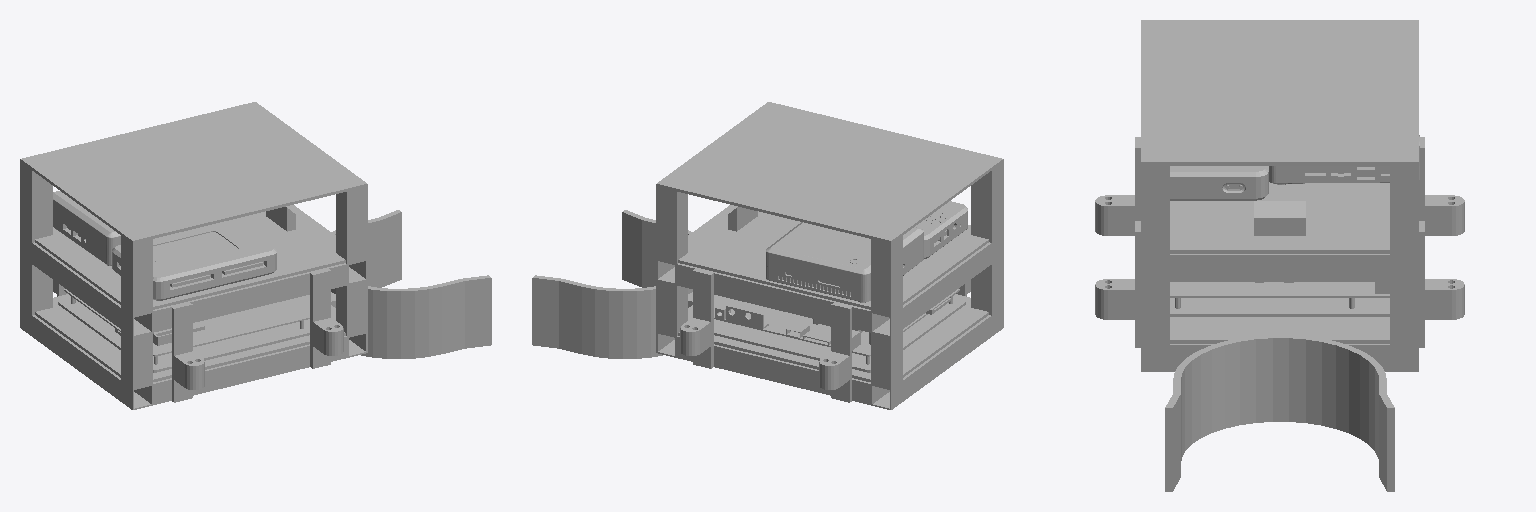
robot.urdf — lide:
<?xml version="1.0" encoding="utf-8"?>
<!-- This URDF was automatically created by SolidWorks to URDF Exporter! Originally created by [author] ([email redacted]) 
     Commit Version: 1.5.1-0-g916b5db  Build Version: 1.5.7152.31018
     For more information, please see http://wiki.ros.org/sw_urdf_exporter -->
<robot
  name="lide">
  <link
    name="base_link">
    <inertial>
      <origin
        xyz="-0.081169 0.0021174 -0.095903"
        rpy="0 0 0" />
      <mass
        value="2.6044" />
      <inertia
        ixx="0.0048774"
        ixy="-4.1979E-07"
        ixz="9.09E-06"
        iyy="0.0056126"
        iyz="-3.2255E-07"
        izz="0.0098576" />
    </inertial>
    <visual>
      <origin
        xyz="0 0 0"
        rpy="0 0 0" />
      <geometry>
        <mesh
          filename="package://lide/meshes/base_link.STL" />
      </geometry>
      <material
        name="">
        <color
          rgba="0.75294 0.75294 0.75294 1" />
      </material>
    </visual>
    <collision>
      <origin
        xyz="0 0 0"
        rpy="0 0 0" />
      <geometry>
        <mesh
          filename="package://lide/meshes/base_link.STL" />
      </geometry>
    </collision>
  </link>
  <link
    name="LFS">
    <inertial>
      <origin
        xyz="0.045553 -0.06062 0.0031624"
        rpy="0 0 0" />
      <mass
        value="0.060681" />
      <inertia
        ixx="1.7187E-05"
        ixy="-1.6485E-08"
        ixz="-1.5645E-07"
        iyy="1.5791E-05"
        iyz="2.9641E-09"
        izz="1.3493E-05" />
    </inertial>
    <visual>
      <origin
        xyz="0 0 0"
        rpy="0 0 0" />
      <geometry>
        <mesh
          filename="package://lide/meshes/LFS.STL" />
      </geometry>
      <material
        name="">
        <color
          rgba="0.75294 0.75294 0.75294 1" />
      </material>
    </visual>
    <collision>
      <origin
        xyz="0 0 0"
        rpy="0 0 0" />
      <geometry>
        <mesh
          filename="package://lide/meshes/LFS.STL" />
      </geometry>
    </collision>
  </link>
  <joint
    name="LFS"
    type="prismatic">
    <origin
      xyz="-0.0088681 0.084404 -0.1235"
      rpy="1.5708 0 1.5708" />
    <parent
      link="base_link" />
    <child
      link="LFS" />
    <axis
      xyz="0 1 0" />
    <limit
      lower="0"
      upper="0"
      effort="0"
      velocity="0" />
  </joint>
  <link
    name="LFW">
    <inertial>
      <origin
        xyz="0.015 0 0"
        rpy="0 0 0" />
      <mass
        value="0.289786121963991" />
      <inertia
        ixx="0.000439831942427159"
        ixy="2.98814337398872E-36"
        ixz="1.04090832548244E-36"
        iyy="0.000241649930360879"
        iyz="1.61397654169218E-36"
        izz="0.000241649930360879" />
    </inertial>
    <visual>
      <origin
        xyz="0 0 0"
        rpy="0 0 0" />
      <geometry>
        <mesh
          filename="package://lide/meshes/LFW.STL" />
      </geometry>
      <material
        name="">
        <color
          rgba="1 1 1 1" />
      </material>
    </visual>
    <collision>
      <origin
        xyz="0 0 0"
        rpy="0 0 0" />
      <geometry>
        <mesh
          filename="package://lide/meshes/LFW.STL" />
      </geometry>
    </collision>
  </link>
  <joint
    name="LFW"
    type="continuous">
    <origin
      xyz="0.063346 -0.069801 0.015044"
      rpy="0 0 0" />
    <parent
      link="LFS" />
    <child
      link="LFW" />
    <axis
      xyz="1 0 0" />
  </joint>
  <link
    name="RFS">
    <inertial>
      <origin
        xyz="-0.019176 -0.060658 0.052192"
        rpy="0 0 0" />
      <mass
        value="0.060681" />
      <inertia
        ixx="1.7187E-05"
        ixy="-1.6485E-08"
        ixz="1.5645E-07"
        iyy="1.5791E-05"
        iyz="-2.9641E-09"
        izz="1.3493E-05" />
    </inertial>
    <visual>
      <origin
        xyz="0 0 0"
        rpy="0 0 0" />
      <geometry>
        <mesh
          filename="package://lide/meshes/RFS.STL" />
      </geometry>
      <material
        name="">
        <color
          rgba="0.75294 0.75294 0.75294 1" />
      </material>
    </visual>
    <collision>
      <origin
        xyz="0 0 0"
        rpy="0 0 0" />
      <geometry>
        <mesh
          filename="package://lide/meshes/RFS.STL" />
      </geometry>
    </collision>
  </link>
  <joint
    name="RFS"
    type="prismatic">
    <origin
      xyz="-0.057897 -0.11078 -0.1235"
      rpy="1.5708 0 1.5708" />
    <parent
      link="base_link" />
    <child
      link="RFS" />
    <axis
      xyz="0 1 0" />
    <limit
      lower="0"
      upper="0"
      effort="0"
      velocity="0" />
  </joint>
  <link
    name="RFW">
    <inertial>
      <origin
        xyz="-0.015 0 0"
        rpy="0 0 0" />
      <mass
        value="0.28979" />
      <inertia
        ixx="0.00043983"
        ixy="-2.9975E-36"
        ixz="3.2894E-37"
        iyy="0.00024165"
        iyz="1.614E-36"
        izz="0.00024165" />
    </inertial>
    <visual>
      <origin
        xyz="0 0 0"
        rpy="0 0 0" />
      <geometry>
        <mesh
          filename="package://lide/meshes/RFW.STL" />
      </geometry>
      <material
        name="">
        <color
          rgba="1 1 1 1" />
      </material>
    </visual>
    <collision>
      <origin
        xyz="0 0 0"
        rpy="0 0 0" />
      <geometry>
        <mesh
          filename="package://lide/meshes/RFW.STL" />
      </geometry>
    </collision>
  </link>
  <joint
    name="RFW"
    type="continuous">
    <origin
      xyz="-0.036969 -0.069799 0.064073"
      rpy="0 0 0" />
    <parent
      link="RFS" />
    <child
      link="RFW" />
    <axis
      xyz="1 0 0" />
  </joint>
  <link
    name="LBS">
    <inertial>
      <origin
        xyz="-2.7756E-17 -0.067035 0"
        rpy="0 0 0" />
      <mass
        value="0.36367" />
      <inertia
        ixx="0.00028006"
        ixy="-5.6302E-20"
        ixz="1.144E-19"
        iyy="0.00043029"
        iyz="-3.0966E-20"
        izz="0.0002799" />
    </inertial>
    <visual>
      <origin
        xyz="0 0 0"
        rpy="0 0 0" />
      <geometry>
        <mesh
          filename="package://lide/meshes/LBS.STL" />
      </geometry>
      <material
        name="">
        <color
          rgba="0.89804 0.91765 0.92941 1" />
      </material>
    </visual>
    <collision>
      <origin
        xyz="0 0 0"
        rpy="0 0 0" />
      <geometry>
        <mesh
          filename="package://lide/meshes/LBS.STL" />
      </geometry>
    </collision>
  </link>
  <joint
    name="LBS"
    type="prismatic">
    <origin
      xyz="-0.15682 0.13 -0.1235"
      rpy="1.5708 0 1.5708" />
    <parent
      link="base_link" />
    <child
      link="LBS" />
    <axis
      xyz="0 1 0" />
    <limit
      lower="0"
      upper="0"
      effort="0"
      velocity="0" />
  </joint>
  <link
    name="LBW">
    <inertial>
      <origin
        xyz="0 0 -6.9389E-16"
        rpy="0 0 0" />
      <mass
        value="0.4849" />
      <inertia
        ixx="0.0002376"
        ixy="0"
        ixz="0"
        iyy="0.0002376"
        iyz="0"
        izz="0.0002376" />
    </inertial>
    <visual>
      <origin
        xyz="0 0 0"
        rpy="0 0 0" />
      <geometry>
        <mesh
          filename="package://lide/meshes/LBW.STL" />
      </geometry>
      <material
        name="">
        <color
          rgba="0.89804 0.91765 0.92941 1" />
      </material>
    </visual>
    <collision>
      <origin
        xyz="0 0 0"
        rpy="0 0 0" />
      <geometry>
        <mesh
          filename="package://lide/meshes/LBW.STL" />
      </geometry>
    </collision>
  </link>
  <joint
    name="LBW"
    type="fixed">
    <origin
      xyz="0 -0.0898 0"
      rpy="0 0 0" />
    <parent
      link="LBS" />
    <child
      link="LBW" />
    <axis
      xyz="0 0 1" />
  </joint>
  <link
    name="RBS">
    <inertial>
      <origin
        xyz="1.7347E-17 -0.067035 2.7756E-17"
        rpy="0 0 0" />
      <mass
        value="0.36367" />
      <inertia
        ixx="0.00028006"
        ixy="1.952E-20"
        ixz="-5.7223E-20"
        iyy="0.00043029"
        iyz="-3.0976E-20"
        izz="0.0002799" />
    </inertial>
    <visual>
      <origin
        xyz="0 0 0"
        rpy="0 0 0" />
      <geometry>
        <mesh
          filename="package://lide/meshes/RBS.STL" />
      </geometry>
      <material
        name="">
        <color
          rgba="0.89804 0.91765 0.92941 1" />
      </material>
    </visual>
    <collision>
      <origin
        xyz="0 0 0"
        rpy="0 0 0" />
      <geometry>
        <mesh
          filename="package://lide/meshes/RBS.STL" />
      </geometry>
    </collision>
  </link>
  <joint
    name="RBS"
    type="prismatic">
    <origin
      xyz="-0.15682 -0.13 -0.1235"
      rpy="1.5708 0 1.5708" />
    <parent
      link="base_link" />
    <child
      link="RBS" />
    <axis
      xyz="0 1 0" />
    <limit
      lower="0"
      upper="0"
      effort="0"
      velocity="0" />
  </joint>
  <link
    name="RBW">
    <inertial>
      <origin
        xyz="-3.4694E-18 0 -2.7756E-17"
        rpy="0 0 0" />
      <mass
        value="0.4849" />
      <inertia
        ixx="0.0002376"
        ixy="0"
        ixz="0"
        iyy="0.0002376"
        iyz="-4.2165E-53"
        izz="0.0002376" />
    </inertial>
    <visual>
      <origin
        xyz="0 0 0"
        rpy="0 0 0" />
      <geometry>
        <mesh
          filename="package://lide/meshes/RBW.STL" />
      </geometry>
      <material
        name="">
        <color
          rgba="0.89804 0.91765 0.92941 1" />
      </material>
    </visual>
    <collision>
      <origin
        xyz="0 0 0"
        rpy="0 0 0" />
      <geometry>
        <mesh
          filename="package://lide/meshes/RBW.STL" />
      </geometry>
    </collision>
  </link>
  <joint
    name="RBW"
    type="fixed">
    <origin
      xyz="0 -0.0898 0"
      rpy="0 0 0" />
    <parent
      link="RBS" />
    <child
      link="RBW" />
    <axis
      xyz="0 0 0" />
  </joint>
  <link
    name="fcam">
    <inertial>
      <origin
        xyz="0.00044553 -1.1063E-05 0.0012982"
        rpy="0 0 0" />
      <mass
        value="0.043612" />
      <inertia
        ixx="2.3571E-05"
        ixy="-1.0181E-09"
        ixz="2.1758E-08"
        iyy="4.2948E-06"
        iyz="-8.8579E-10"
        izz="2.2106E-05" />
    </inertial>
    <visual>
      <origin
        xyz="0 0 0"
        rpy="0 0 0" />
      <geometry>
        <mesh
          filename="package://lide/meshes/fcam.STL" />
      </geometry>
      <material
        name="">
        <color
          rgba="0.79216 0.81961 0.93333 1" />
      </material>
    </visual>
    <collision>
      <origin
        xyz="0 0 0"
        rpy="0 0 0" />
      <geometry>
        <mesh
          filename="package://lide/meshes/fcam.STL" />
      </geometry>
    </collision>
  </link>
  <joint
    name="fcam"
    type="fixed">
    <origin
      xyz="0.033176 0 -0.015008"
      rpy="0 0 0" />
    <parent
      link="base_link" />
    <child
      link="fcam" />
    <axis
      xyz="0 0 0" />
  </joint>
  <link
    name="bcam">
    <inertial>
      <origin
        xyz="0.00044553 -1.1063E-05 0.0012982"
        rpy="0 0 0" />
      <mass
        value="0.043612" />
      <inertia
        ixx="2.3571E-05"
        ixy="-1.0183E-09"
        ixz="2.1758E-08"
        iyy="4.2948E-06"
        iyz="-8.8548E-10"
        izz="2.2106E-05" />
    </inertial>
    <visual>
      <origin
        xyz="0 0 0"
        rpy="0 0 0" />
      <geometry>
        <mesh
          filename="package://lide/meshes/bcam.STL" />
      </geometry>
      <material
        name="">
        <color
          rgba="0.79216 0.81961 0.93333 1" />
      </material>
    </visual>
    <collision>
      <origin
        xyz="0 0 0"
        rpy="0 0 0" />
      <geometry>
        <mesh
          filename="package://lide/meshes/bcam.STL" />
      </geometry>
    </collision>
  </link>
  <joint
    name="bcam"
    type="fixed">
    <origin
      xyz="0.024595 0 -0.050288"
      rpy="0 0.7854 0" />
    <parent
      link="base_link" />
    <child
      link="bcam" />
    <axis
      xyz="0 0 0" />
  </joint>
  <link
    name="Lidar">
    <inertial>
      <origin
        xyz="0.013523 0.00046196 -0.028765"
        rpy="0 0 0" />
      <mass
        value="0.073085" />
      <inertia
        ixx="1.9581E-05"
        ixy="-1.0393E-07"
        ixz="-4.2839E-07"
        iyy="2.4125E-05"
        iyz="9.4271E-09"
        izz="4.1418E-05" />
    </inertial>
    <visual>
      <origin
        xyz="0 0 0"
        rpy="0 0 0" />
      <geometry>
        <mesh
          filename="package://lide/meshes/Lidar.STL" />
      </geometry>
      <material
        name="">
        <color
          rgba="0.79216 0.81961 0.93333 1" />
      </material>
    </visual>
    <collision>
      <origin
        xyz="0 0 0"
        rpy="0 0 0" />
      <geometry>
        <mesh
          filename="package://lide/meshes/Lidar.STL" />
      </geometry>
    </collision>
  </link>
  <joint
    name="Lidar"
    type="fixed">
    <origin
      xyz="-0.1494 -0.00099405 0.0565"
      rpy="0 0 0" />
    <parent
      link="base_link" />
    <child
      link="Lidar" />
    <axis
      xyz="0 0 0" />
  </joint>
  <link
    name="imu_link">
    <inertial>
      <origin
        xyz="0 0 0"
        rpy="0 0 0" />
      <mass
        value="0" />
      <inertia
        ixx="0"
        ixy="0"
        ixz="0"
        iyy="0"
        iyz="0"
        izz="0" />
    </inertial>
    <visual>
      <origin
        xyz="0 0 0"
        rpy="0 0 0" />
      <geometry>
        <mesh
          filename="package://lide/meshes/imu_link.STL" />
      </geometry>
      <material
        name="">
        <color
          rgba="1 1 1 1" />
      </material>
    </visual>
    <collision>
      <origin
        xyz="0 0 0"
        rpy="0 0 0" />
      <geometry>
        <mesh
          filename="package://lide/meshes/imu_link.STL" />
      </geometry>
    </collision>
  </link>
  <joint
    name="imu_link"
    type="fixed">
    <origin
      xyz="-0.0063056 -0.0012093 0.005"
      rpy="0 0 0" />
    <parent
      link="base_link" />
    <child
      link="imu_link" />
    <axis
      xyz="0 0 0" />
  </joint>
</robot>

--- Facts derived from the render (not from the file) ---
Views: 3 orthographic renders of the robot side by side, from view 1: azimuth 30°, elevation 25°; view 2: azimuth 150°, elevation 25°; view 3: azimuth 270°, elevation 25°.
Model lide with 13 links and 12 joints (2 continuous, 4 prismatic, 6 fixed), rooted at base_link, posed all joints at 0.
Links seen in each view (by area): view 1: base_link; view 2: base_link; view 3: base_link.
Boxes of the visible links, box(x1,y1,x2,y2) form: base_link: box(20, 102, 491, 409); base_link: box(532, 102, 1003, 409); base_link: box(1095, 20, 1464, 491).
Bounding box of the posed robot: 0.3983 × 0.28 × 0.208 m (x, y, z).
Meshes: 13 distinct files referenced, 1 mesh visuals loaded (1 binary STL); not drawn: 12 (reference not matched to a file when rendering).